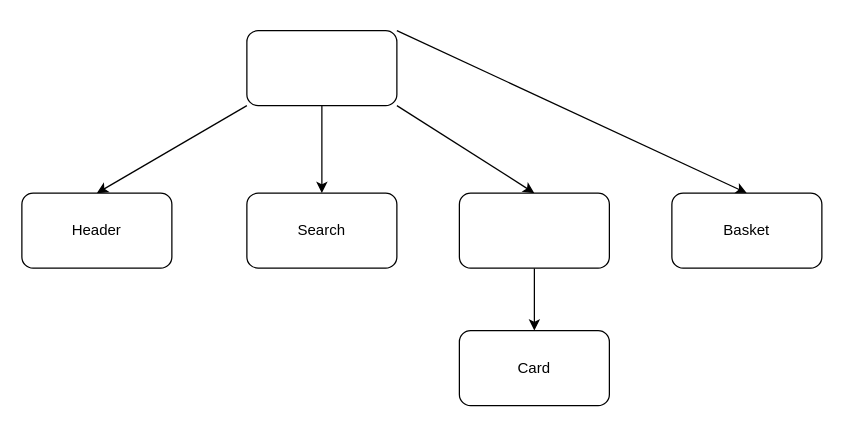
The diagram is 844 pixels wide and 428 high, and some of its shapes have lost their labels. The shapes that lost their labels are listed below. From the top down, each one's box as (x1, y1, x2, y2) in pixels, then its label:
(246, 29, 397, 106): App
(458, 192, 609, 268): List
